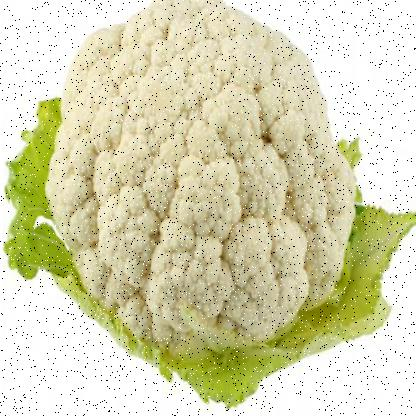cauliflower: (60, 0, 356, 348)
